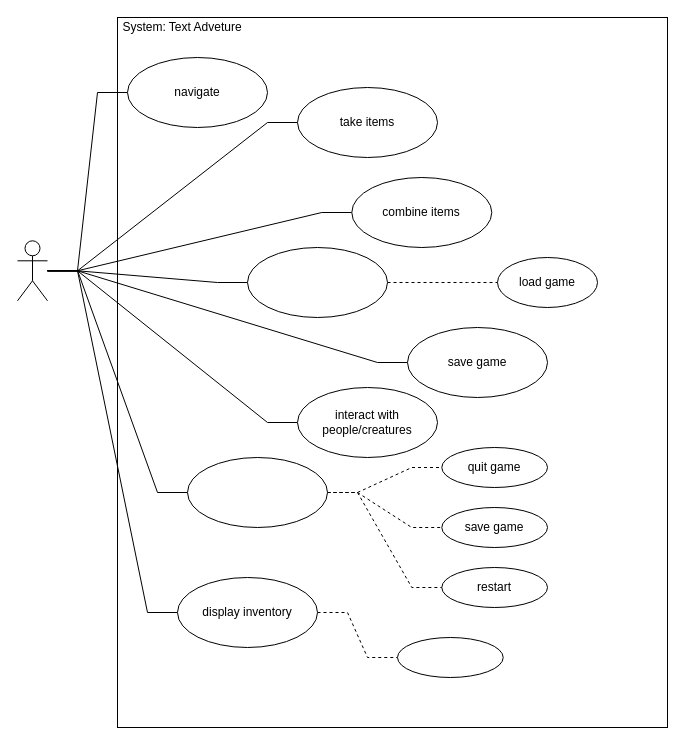
This 685x745 diagram has some shape labels left out. The shapes that lost their labels are listed below. From the top down, each one's centre as x and y in pixels, then its label:
the point at 32,270: Actor
the point at 317,282: start game
the point at 257,492: display menu
the point at 449,657: use item
